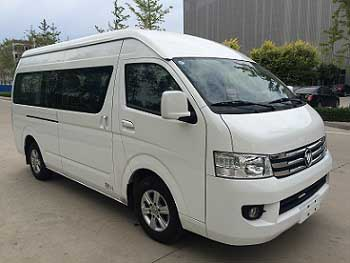midcar: (10, 35, 332, 245)
